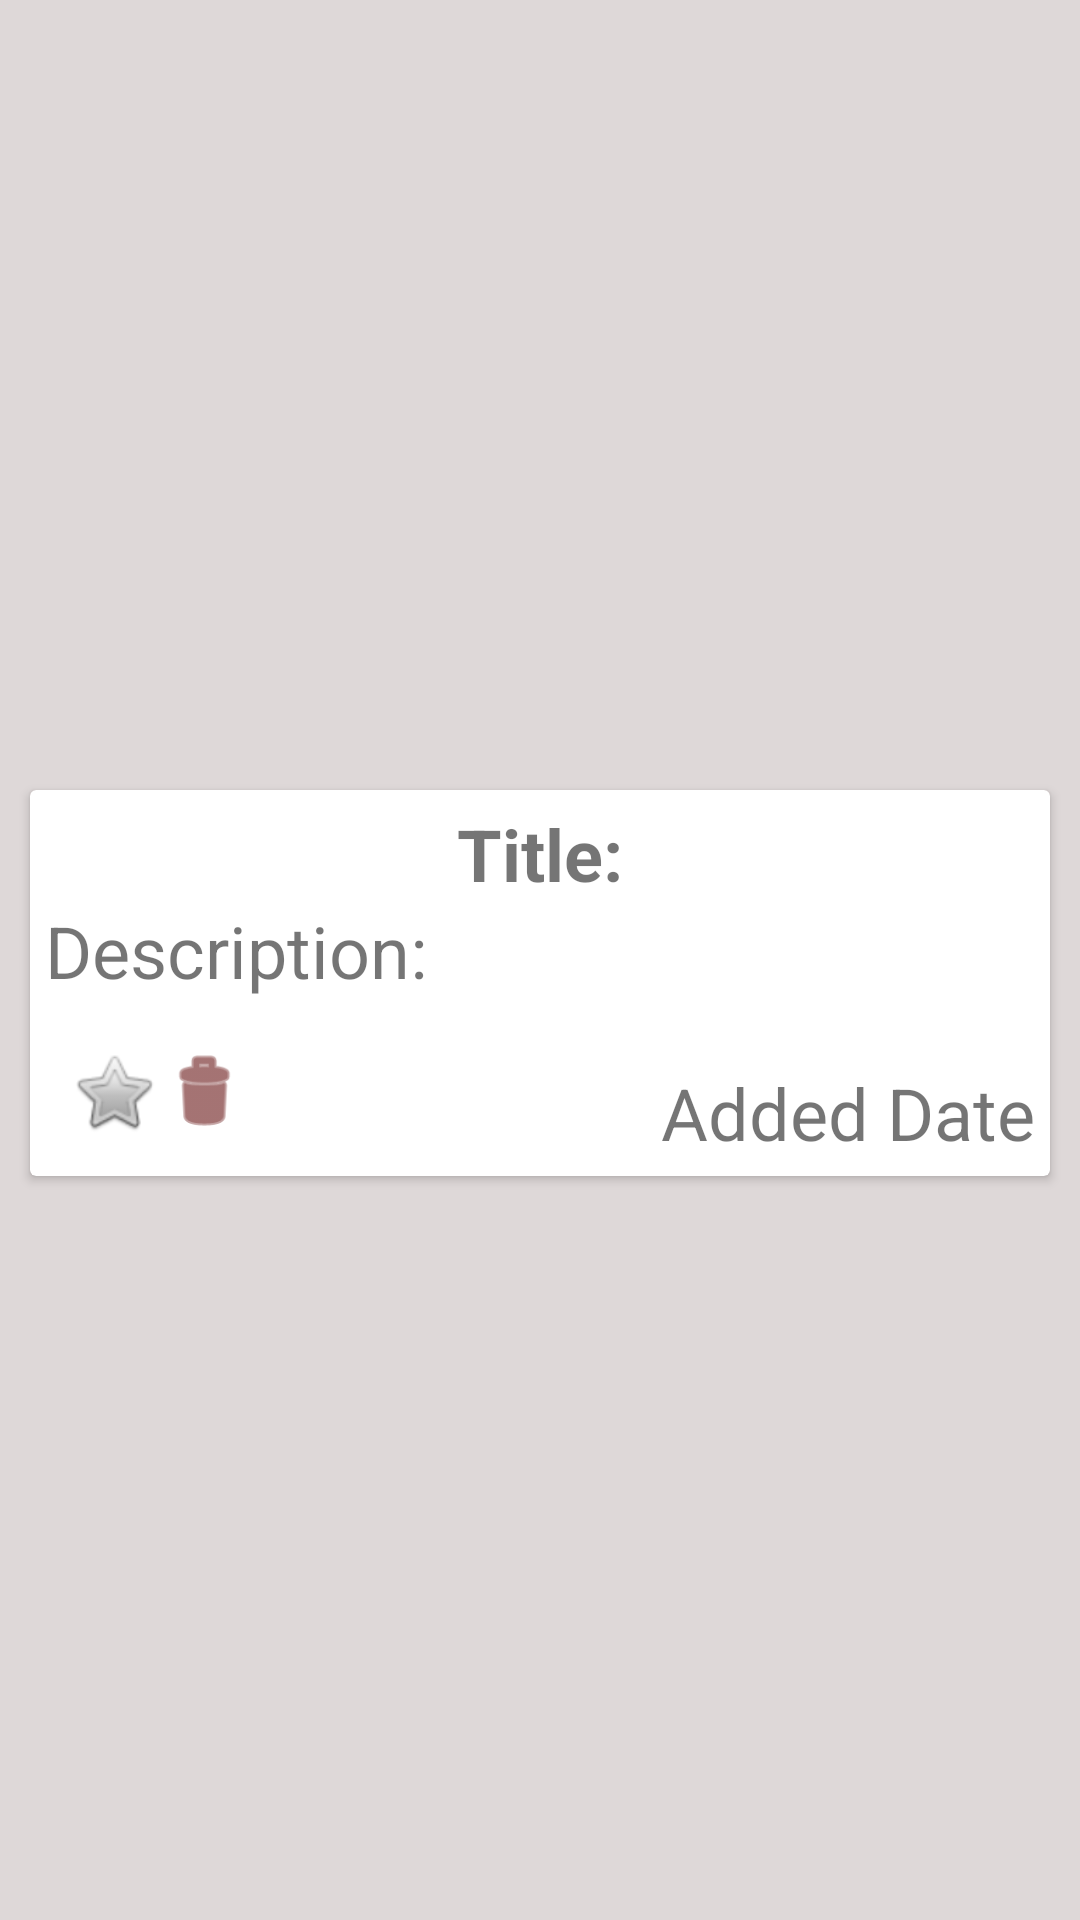

Icon bounding boxes for this 1080×1920 phone screenshot, format (x1, y1, x2, y2):
delete: (179, 1055, 230, 1126)
